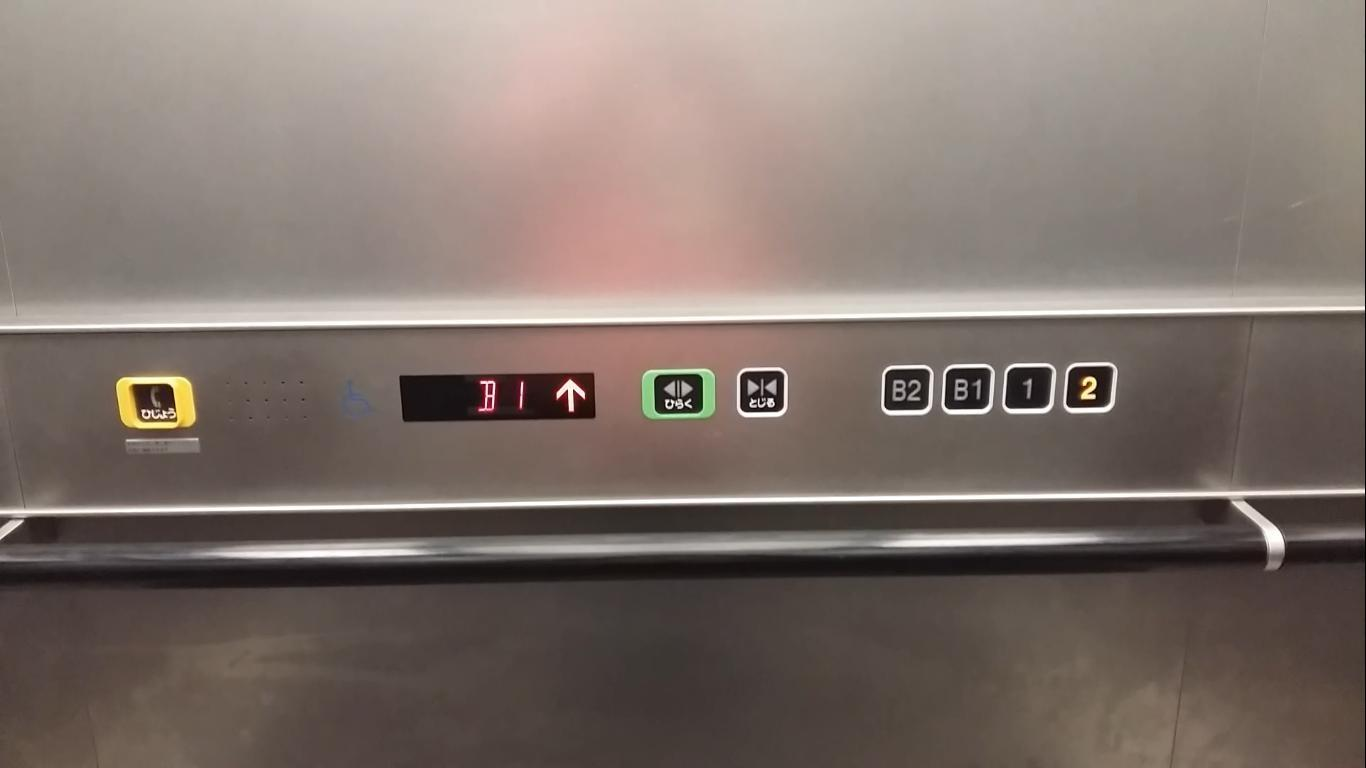1: (1000, 359, 1056, 417)
2: (1060, 357, 1119, 416)
B1: (939, 360, 995, 418)
B2: (878, 361, 934, 419)
call: (111, 371, 201, 433)
close: (731, 364, 790, 420)
led: (394, 368, 599, 424)
open: (635, 364, 720, 422)
